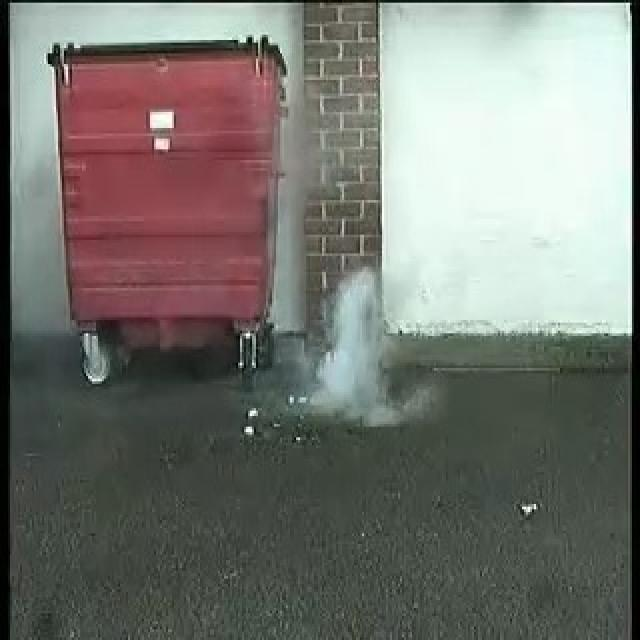smoke: (310, 275, 406, 433)
